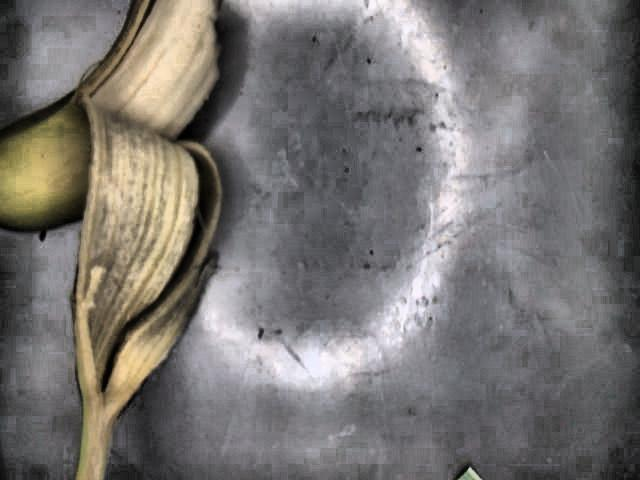Almennt: (0, 0, 226, 480)
